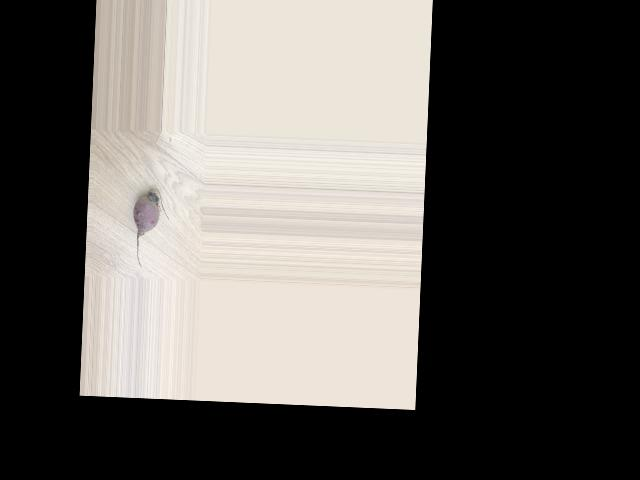beet: (130, 188, 169, 269)
